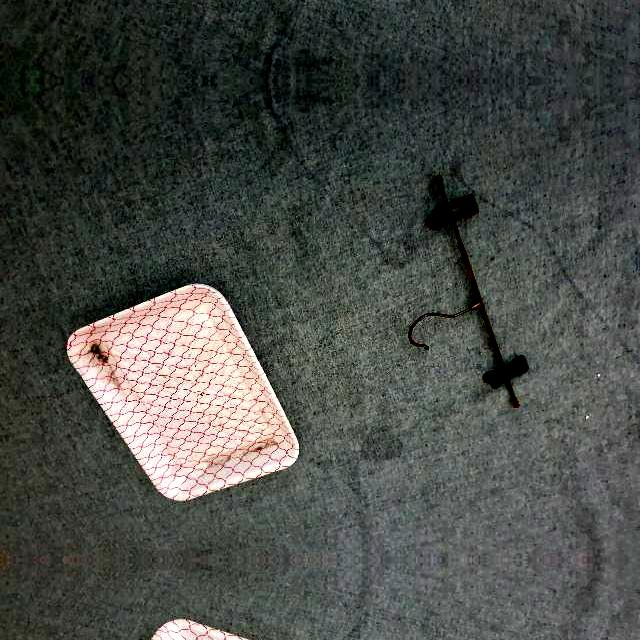Styrofoam: (65, 281, 299, 501), (66, 283, 299, 501)
